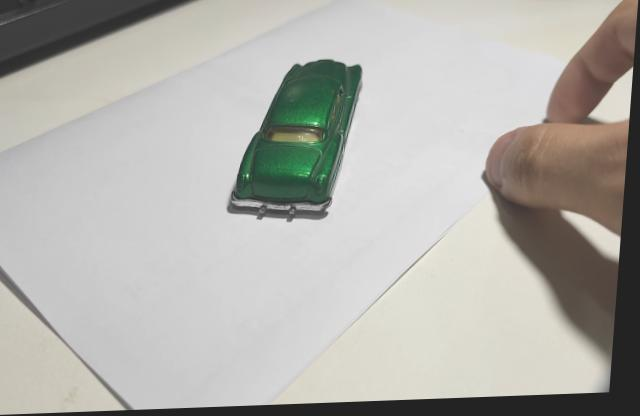06_MASERATI: (229, 62, 365, 224)
